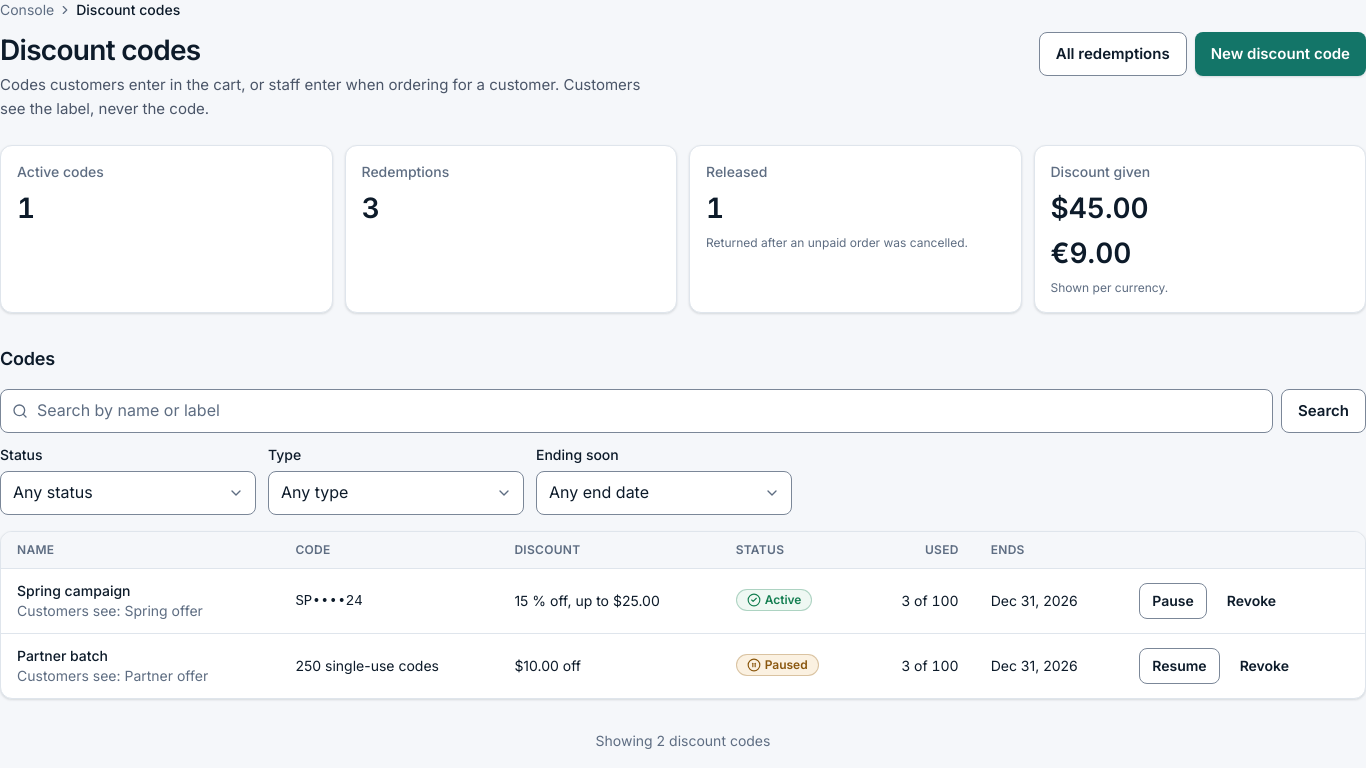
Discount codes list › pause asks for confirmation, sends the expected version; the swapped row lands focus on its next action (Resume)
Click the button with aria-label "Pause Spring campaign".
click(1173, 601)  # box x1=1139 y1=583 x2=1207 y2=619
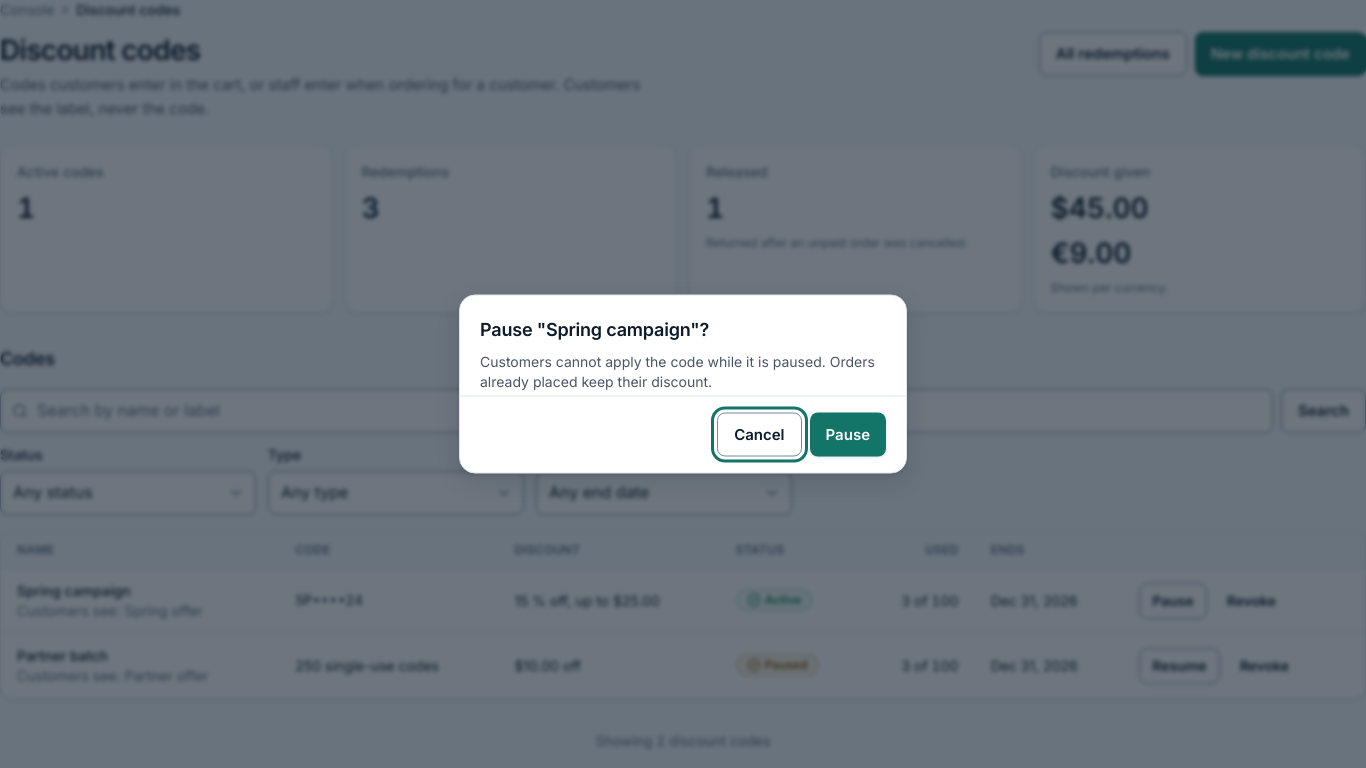
Now the text "Orders already placed keep their discount" is shown, box x1=480 y1=352 x2=875 y2=390
Press Tab
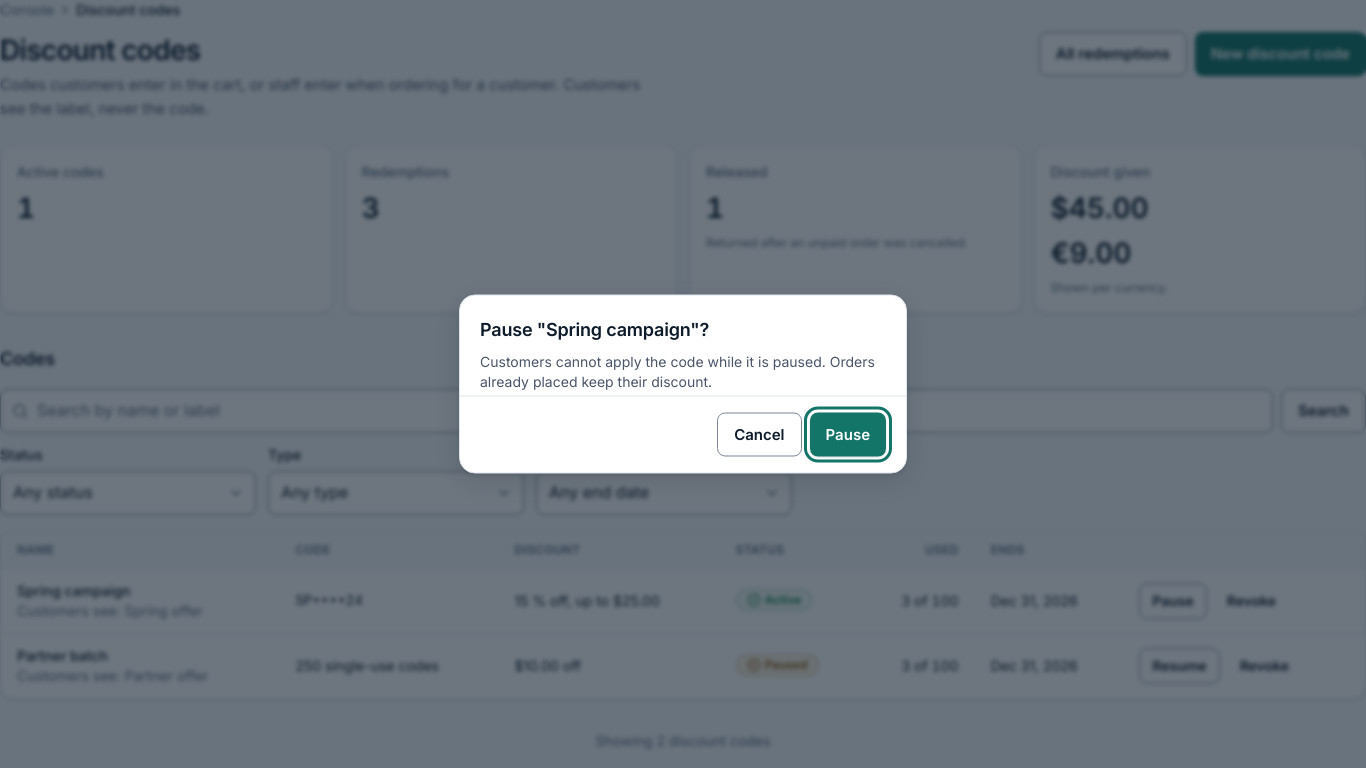
Click the button "Pause".
click(848, 434)  # box x1=810 y1=412 x2=886 y2=456
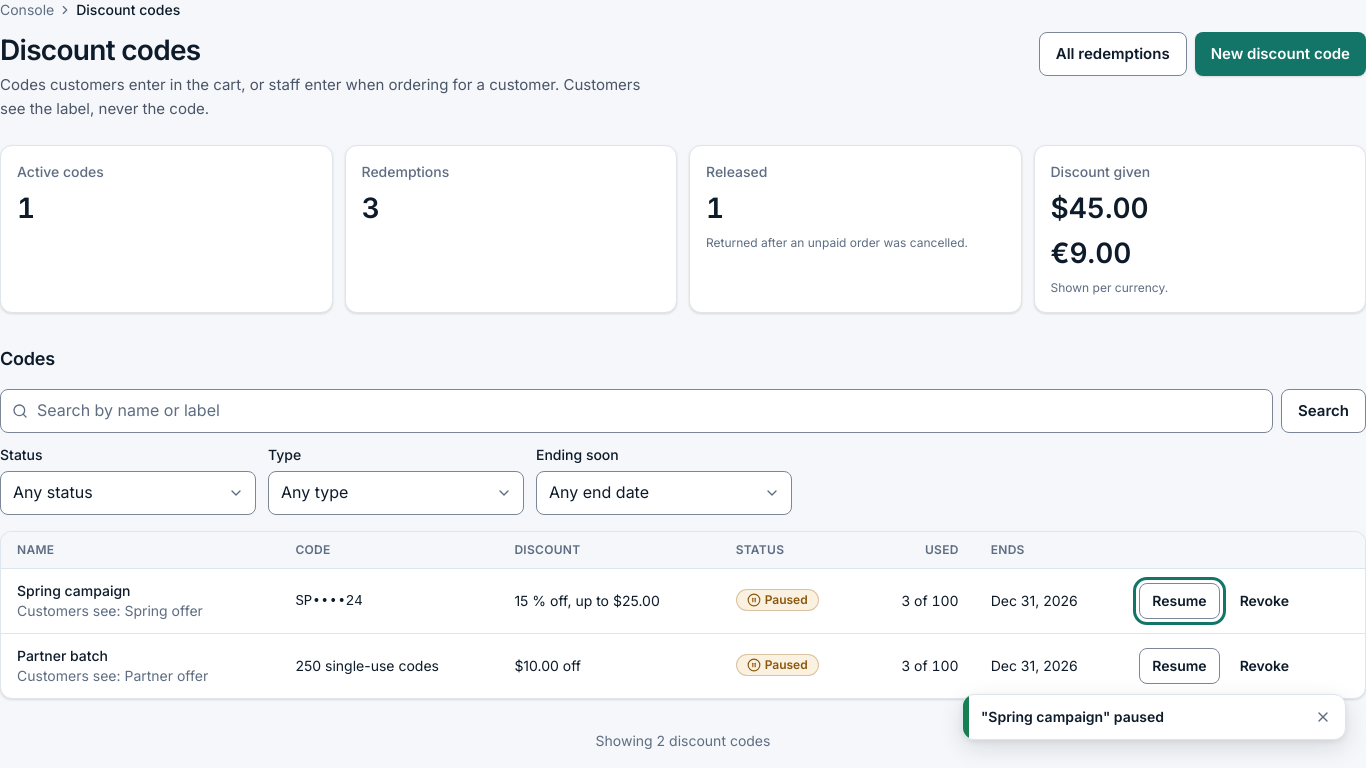
Now the dialog is gone
